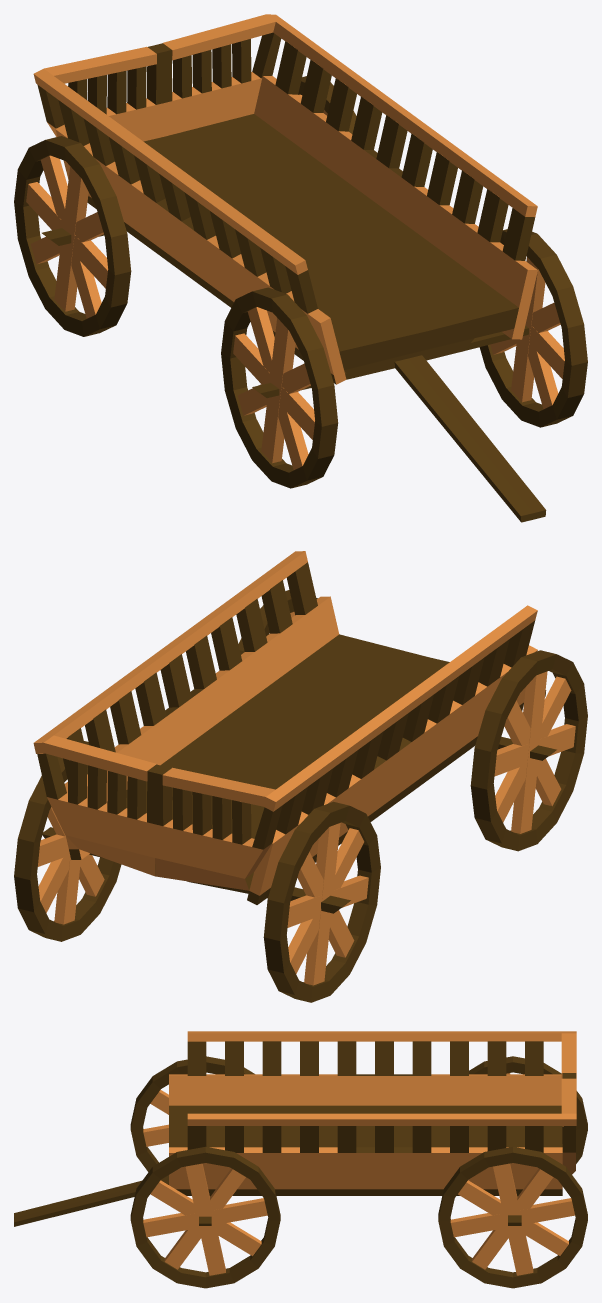
Rendered from cart.fbx.
3 views of the same model, one above another, from view 1: azimuth 30°, elevation 25°; view 2: azimuth 150°, elevation 25°; view 3: azimuth 270°, elevation 25° (orthographic). The views are drawn at different scales.
Visible parts, largest first — view 1: Cart, Wheels; view 2: Cart, Wheels; view 3: Cart, Wheels.
Part boxes in pixels (<box>): Cart: <box>33,14,546,522</box>; Wheels: <box>14,76,587,488</box>; Cart: <box>33,551,556,913</box>; Wheels: <box>14,590,587,1002</box>; Cart: <box>14,1031,576,1226</box>; Wheels: <box>130,1056,587,1288</box>.
Size of the model in its own units: 344 by 246 by 766.
